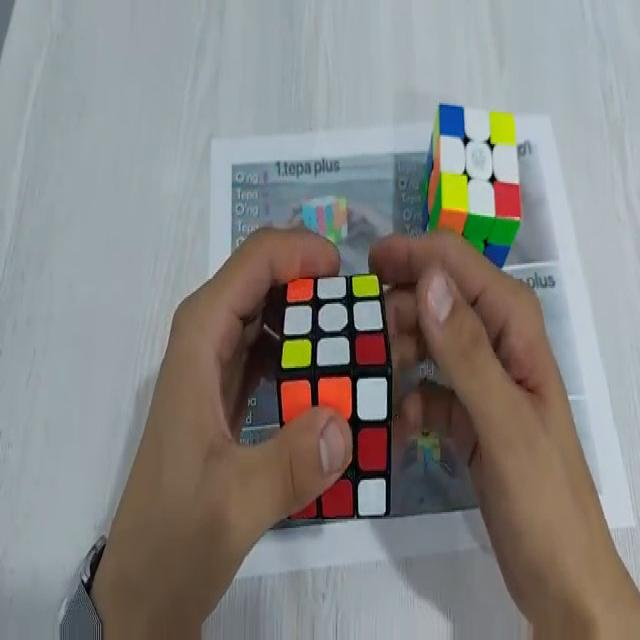Rub: (275, 270, 393, 522), (421, 101, 523, 266)
